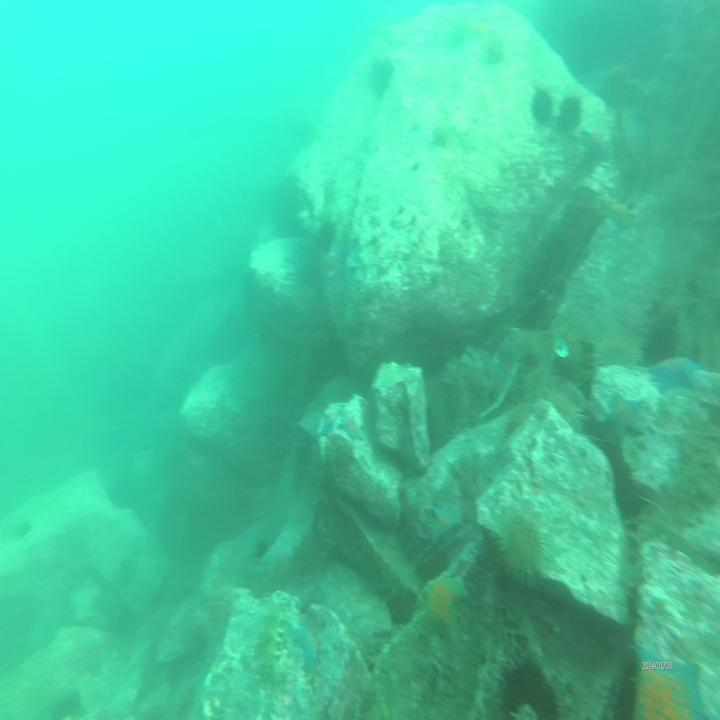echinus: (494, 644, 561, 720), (493, 513, 550, 593), (595, 326, 645, 377), (554, 82, 586, 143), (527, 76, 557, 136)
holothurian: (254, 609, 286, 685), (206, 587, 231, 644)
starfish: (629, 636, 719, 720), (420, 570, 466, 644), (287, 613, 321, 674)
